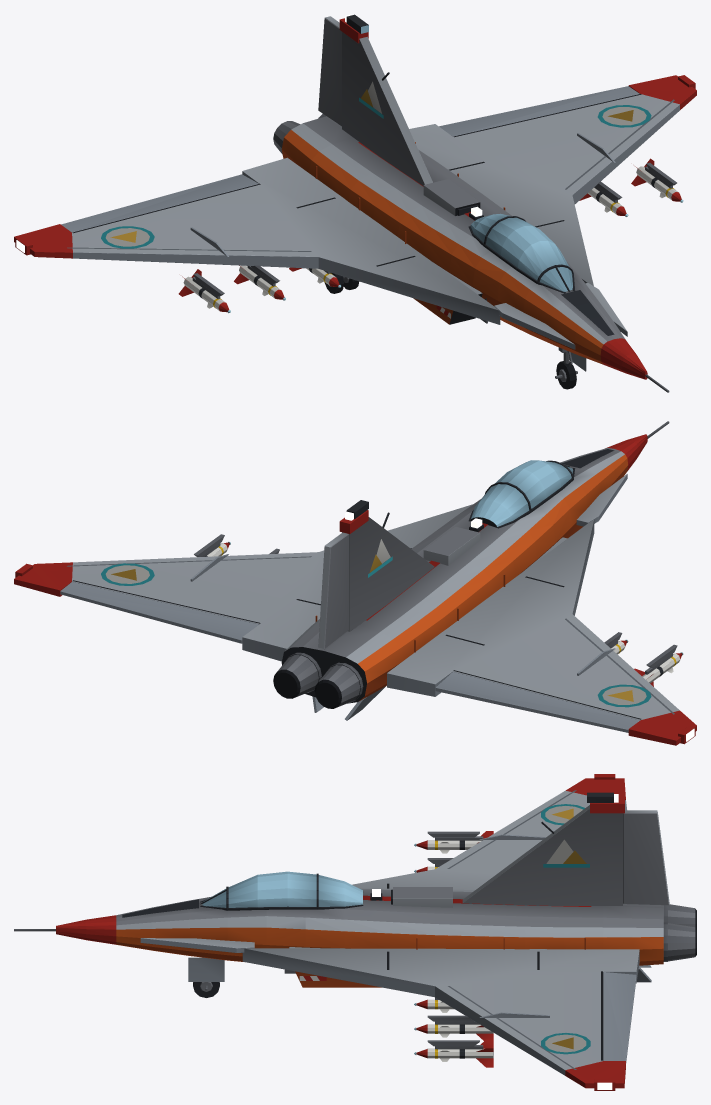
Rendered from skua.glb.
3 views of the same model, one above another, from view 1: azimuth 30°, elevation 25°; view 2: azimuth 150°, elevation 25°; view 3: azimuth 270°, elevation 25° (orthographic). The views are drawn at different scales.
Parts seen in each view (by area): view 1: body, elevon_R_mesh, elevon_L_mesh, rudder_mesh, gear_0_mesh, missile_0, missile_1, missile_3; view 2: body, elevon_R_mesh, elevon_L_mesh, rudder_mesh, missile_1; view 3: body, rudder_mesh, elevon_L_mesh, gear_0_mesh, missile_0, missile_2, missile_1.
Boxes of the visible parts, bbox=[...] form: body: bbox=[14, 14, 696, 392]; elevon_R_mesh: bbox=[61, 174, 258, 232]; elevon_L_mesh: bbox=[439, 86, 639, 136]; rudder_mesh: bbox=[318, 16, 341, 126]; gear_0_mesh: bbox=[555, 347, 586, 389]; missile_0: bbox=[631, 158, 683, 202]; missile_1: bbox=[178, 269, 230, 313]; missile_3: bbox=[234, 265, 285, 300]; body: bbox=[14, 421, 696, 745]; elevon_R_mesh: bbox=[435, 672, 639, 732]; elevon_L_mesh: bbox=[60, 582, 258, 643]; rudder_mesh: bbox=[318, 532, 348, 649]; missile_1: bbox=[634, 652, 683, 686]; body: bbox=[14, 774, 696, 1090]; rudder_mesh: bbox=[623, 810, 669, 905]; elevon_L_mesh: bbox=[603, 972, 636, 1062]; gear_0_mesh: bbox=[188, 957, 224, 997]; missile_0: bbox=[414, 1039, 493, 1067]; missile_2: bbox=[414, 1021, 493, 1040]; missile_1: bbox=[414, 831, 493, 853].
Size of the model in its own units: 24.3 by 7.42 by 22.71.
